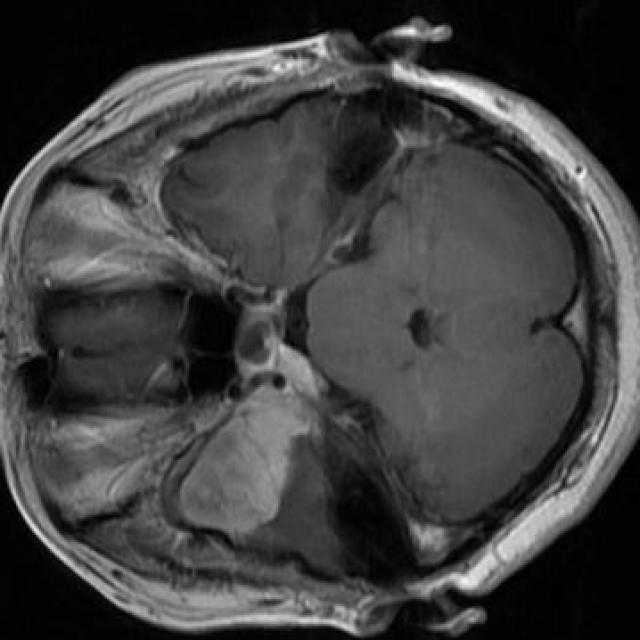meningioma: (182, 337, 319, 533)
